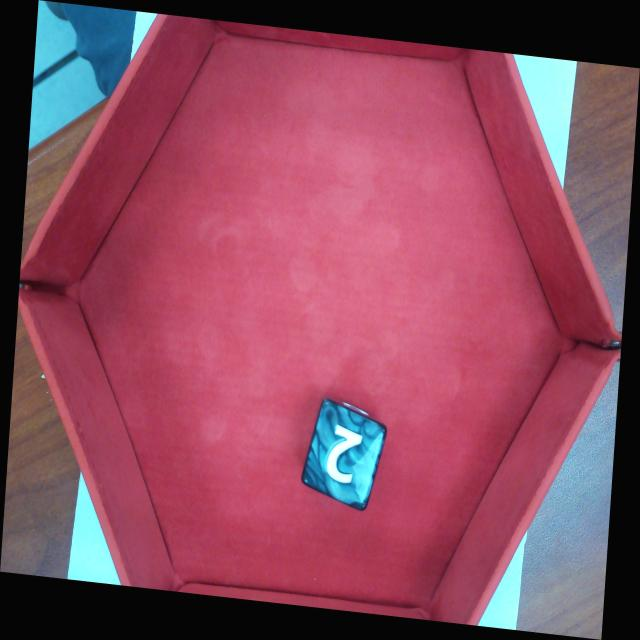dice: (298, 394, 390, 515)
